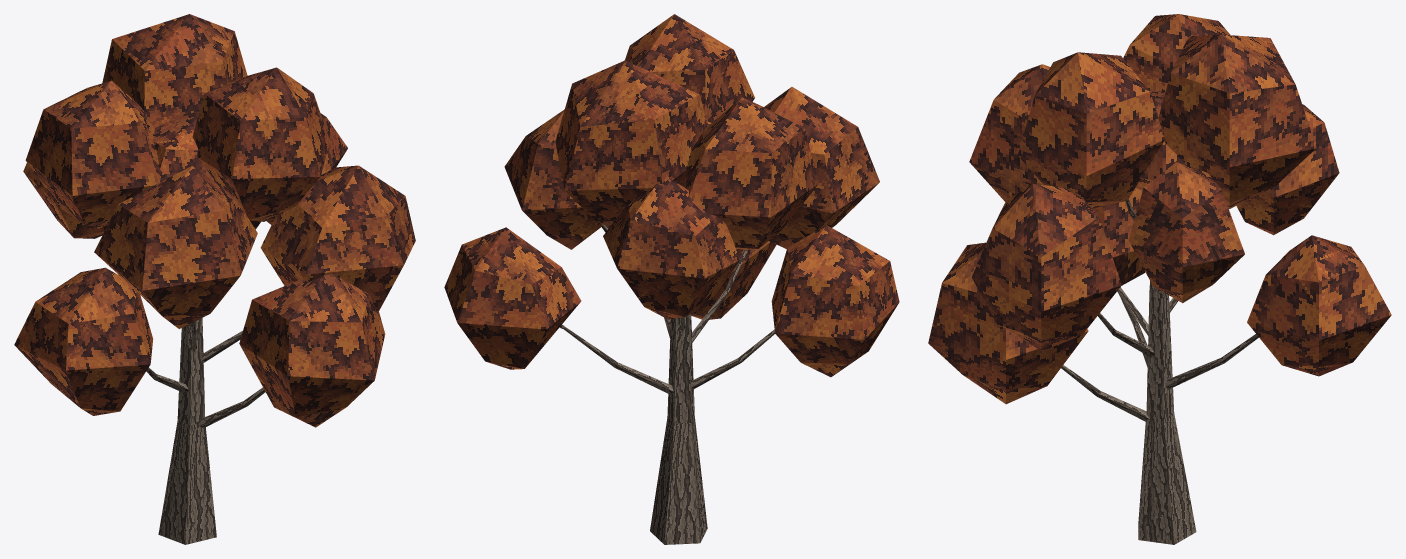
The model's file is TREE_Maple_Autumn_A_LOD2.glb.
3 views of the same model, side by side, from view 1: azimuth 30°, elevation 25°; view 2: azimuth 150°, elevation 25°; view 3: azimuth 270°, elevation 25° (orthographic). The views are drawn at different scales.
Parts seen in each view (by area): view 1: TREE_Maple_Autumn_A_LOD2__Foliage, TREE_Maple_Autumn_A_LOD2__Bark; view 2: TREE_Maple_Autumn_A_LOD2__Foliage, TREE_Maple_Autumn_A_LOD2__Bark; view 3: TREE_Maple_Autumn_A_LOD2__Foliage, TREE_Maple_Autumn_A_LOD2__Bark.
Boxes of the visible parts, x1=… form: TREE_Maple_Autumn_A_LOD2__Foliage: x1=14, y1=14, x2=415, y2=427; TREE_Maple_Autumn_A_LOD2__Bark: x1=146, y1=318, x2=265, y2=544; TREE_Maple_Autumn_A_LOD2__Foliage: x1=444, y1=14, x2=899, y2=377; TREE_Maple_Autumn_A_LOD2__Bark: x1=559, y1=223, x2=774, y2=544; TREE_Maple_Autumn_A_LOD2__Foliage: x1=928, y1=14, x2=1391, y2=404; TREE_Maple_Autumn_A_LOD2__Bark: x1=1061, y1=199, x2=1258, y2=544.
Size of the model in its own units: 7.96 by 10.71 by 8.79.
Materials: 2 (2 with a texture image).
